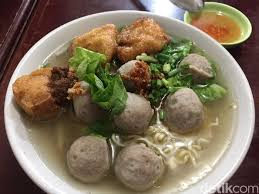bakso: (61, 62, 219, 183)
